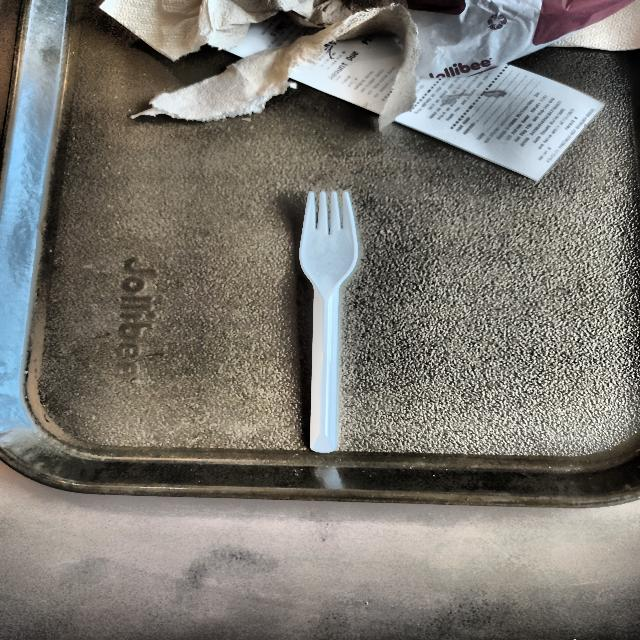plastic utensil: (300, 191, 358, 452)
